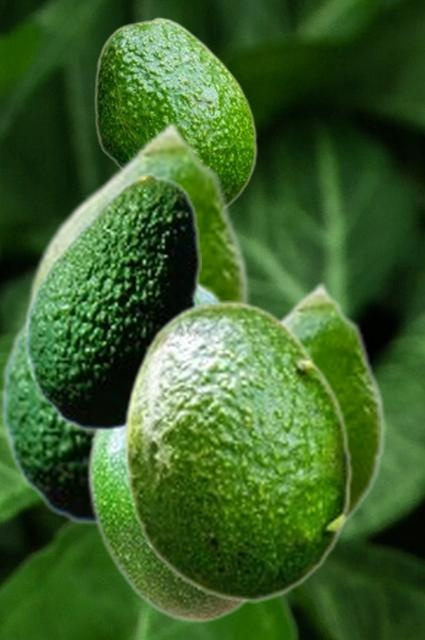avocado: (26, 118, 249, 440), (121, 300, 352, 602), (85, 280, 247, 623), (24, 173, 200, 431), (93, 16, 256, 206), (276, 280, 385, 530), (0, 308, 94, 525)
